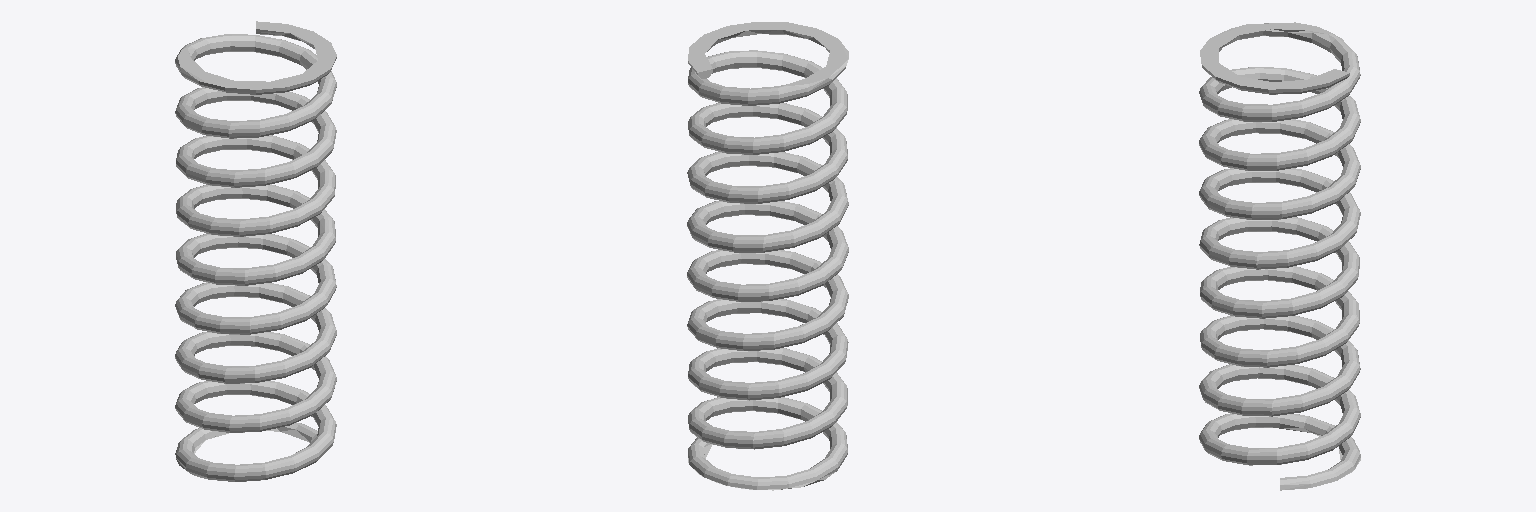
Rendered from 405. Пружина стопорного шарика (свободна).obj.
3 renders of one model, left to right at view 1: azimuth 30°, elevation 25°; view 2: azimuth 150°, elevation 25°; view 3: azimuth 270°, elevation 25°, orthographic.
Parts seen in each view (by area): view 1: Твердое тело1; view 2: Твердое тело1; view 3: Твердое тело1.
Part boxes in pixels (bbox=[...]): Твердое тело1: bbox=[175, 21, 336, 481]; Твердое тело1: bbox=[687, 22, 848, 490]; Твердое тело1: bbox=[1199, 22, 1360, 490].
Size of the model in its own units: 9 by 24.5 by 9.